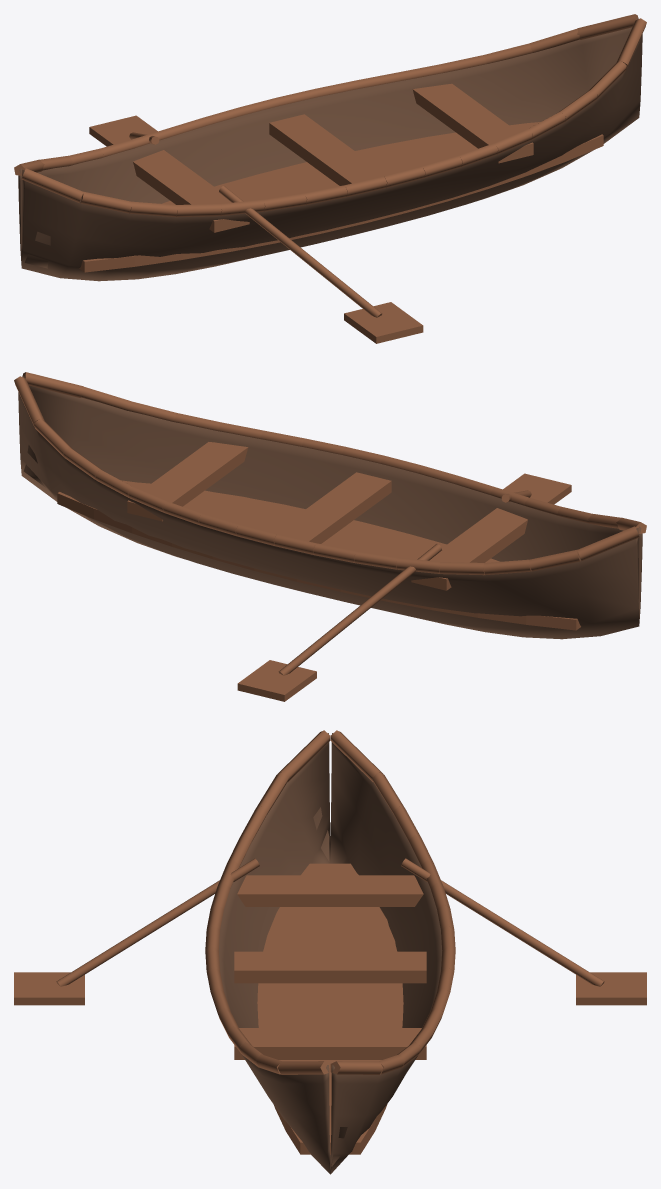
File: skiff-lod2.glb
3 views of the same model, one above another, from view 1: azimuth 30°, elevation 25°; view 2: azimuth 150°, elevation 25°; view 3: azimuth 270°, elevation 25° (orthographic). The views are drawn at different scales.
Parts seen in each view (by area): view 1: skiff.hull, skiff.wood; view 2: skiff.hull, skiff.wood; view 3: skiff.wood, skiff.hull.
Part boxes in pixels (x1,y1,x2,y2): skiff.hull: (18, 18, 642, 281); skiff.wood: (14, 14, 646, 343); skiff.hull: (18, 376, 642, 639); skiff.wood: (14, 372, 646, 701); skiff.wood: (14, 730, 646, 1154); skiff.hull: (218, 733, 442, 1174).
Size of the model in its own units: 4.24 by 0.9633 by 3.38.
